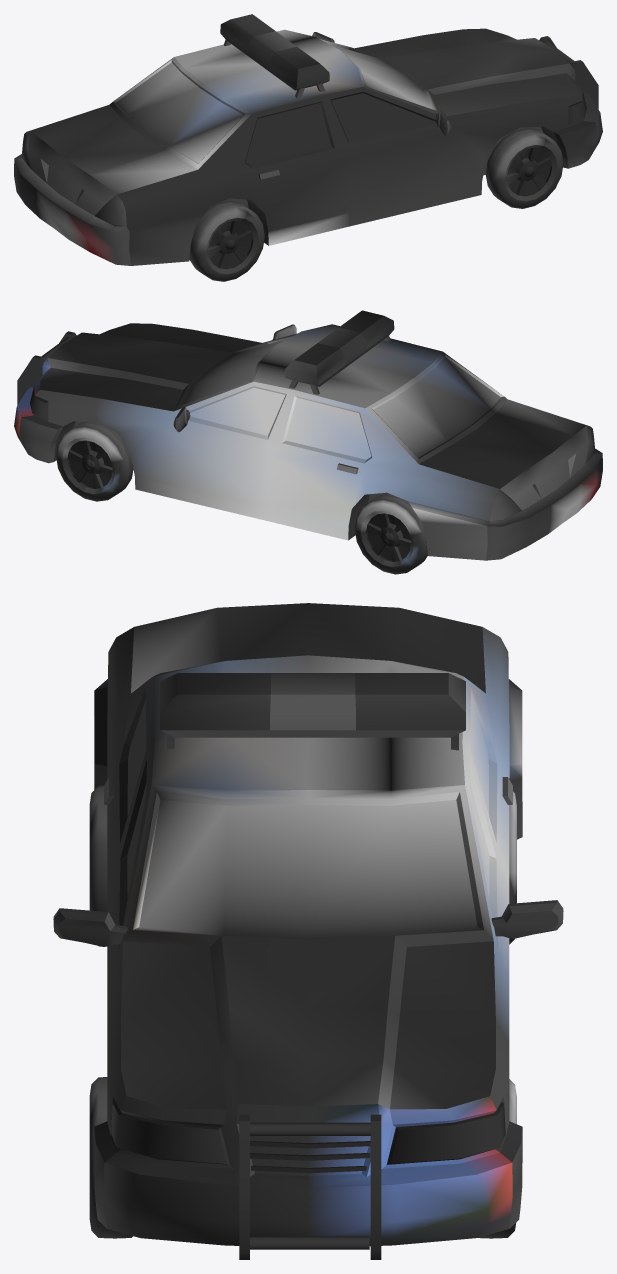
Rendered from police_car.native.glb.
The picture shows the model from 3 angles, top to bottom: view 1: azimuth 30°, elevation 25°; view 2: azimuth 150°, elevation 25°; view 3: azimuth 270°, elevation 25°; orthographic projection. The views are drawn at different scales.
Parts seen in each view (by area): view 1: police_car; view 2: police_car; view 3: police_car.
Part boxes in pixels (bbox=[...]): police_car: bbox=[14, 14, 602, 281]; police_car: bbox=[14, 310, 602, 574]; police_car: bbox=[53, 603, 563, 1259].
Bounding box in the file's own units: 5.69 × 1.8 × 2.36.
